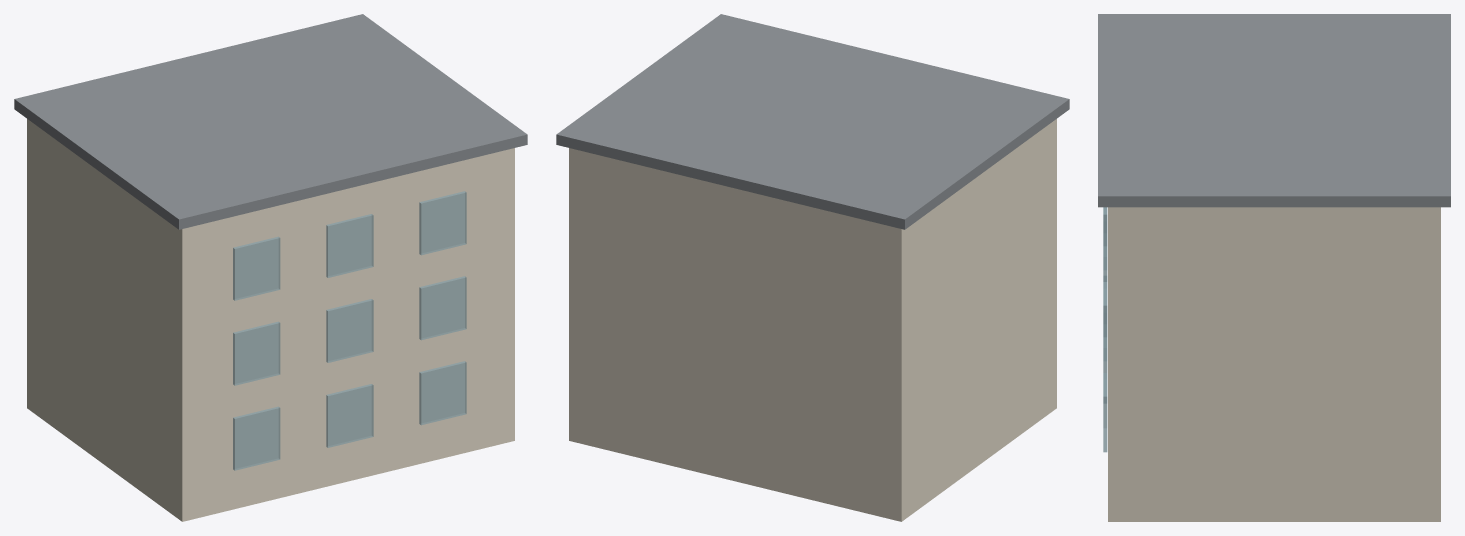
File: building_small_03.glb
The picture shows the model from 3 angles, left to right: view 1: azimuth 30°, elevation 25°; view 2: azimuth 150°, elevation 25°; view 3: azimuth 270°, elevation 25°; orthographic projection. The views are drawn at different scales.
Visible parts, largest first — view 1: Mass.002, Roof.002, Win_0_0.002, Win_1_2.002, Win_2_0.002, Win_2_2.002, Win_0_1.002, Win_0_2.002, Win_1_0.002, Win_1_1.002, Win_2_1.002; view 2: Mass.002, Roof.002; view 3: Mass.002, Roof.002.
Boxes of the visible parts, x1,y1,x2,y2 form: Mass.002: [27, 119, 514, 521]; Roof.002: [14, 14, 527, 229]; Win_0_0.002: [233, 406, 280, 470]; Win_1_2.002: [419, 276, 466, 340]; Win_2_0.002: [233, 236, 280, 300]; Win_2_2.002: [419, 191, 466, 255]; Win_0_1.002: [326, 384, 373, 447]; Win_0_2.002: [419, 361, 466, 425]; Win_1_0.002: [233, 321, 280, 385]; Win_1_1.002: [326, 299, 373, 362]; Win_2_1.002: [326, 214, 373, 277]; Mass.002: [569, 119, 1056, 521]; Roof.002: [556, 14, 1069, 229]; Mass.002: [1108, 207, 1440, 521]; Roof.002: [1098, 14, 1450, 207].
Size of the model in its own units: 8.8 by 7.43 by 7.2.
